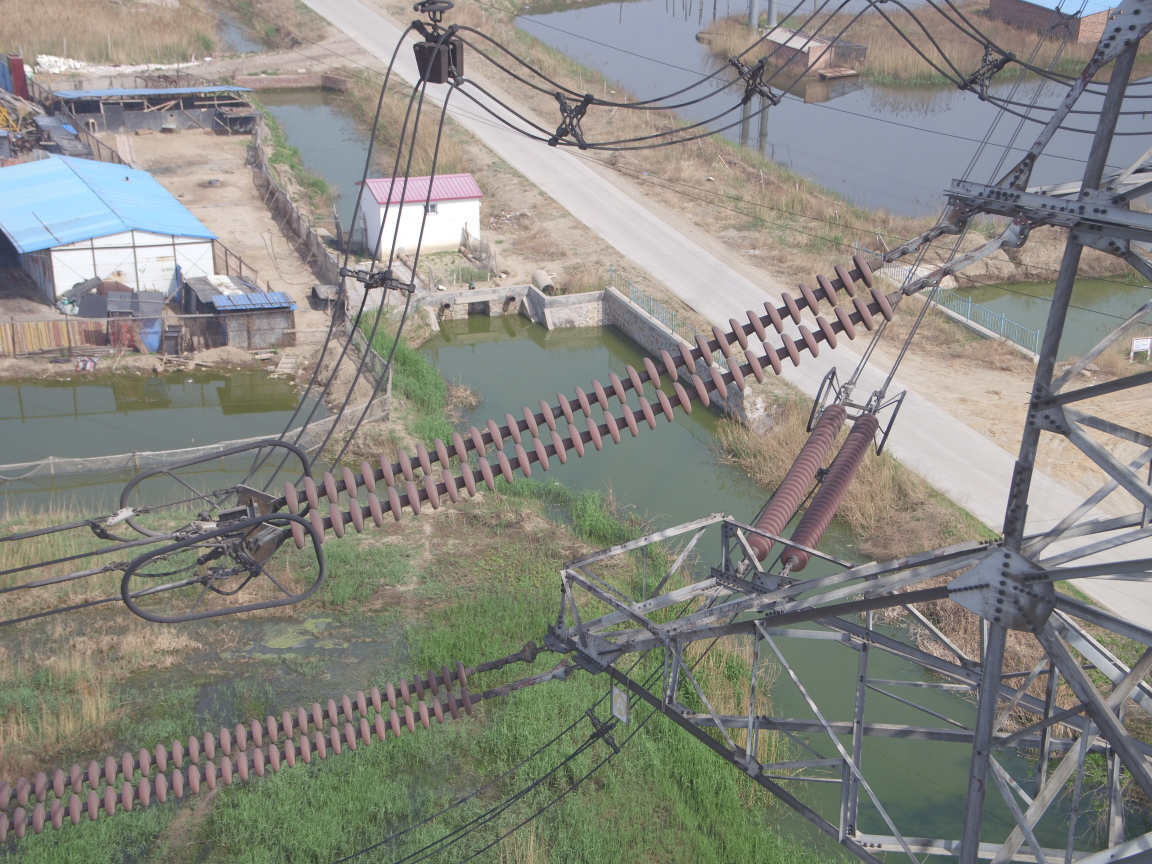insulator: (279, 245, 915, 555), (1, 655, 515, 841), (719, 397, 879, 572)
